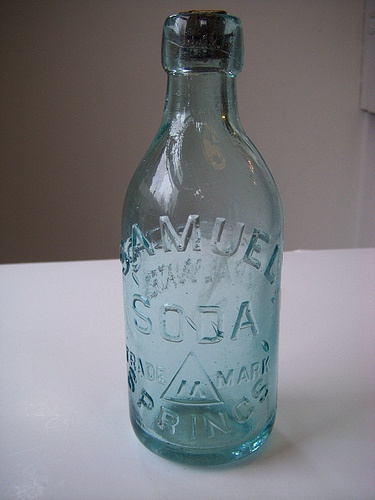emptybottle: (118, 11, 278, 464)
